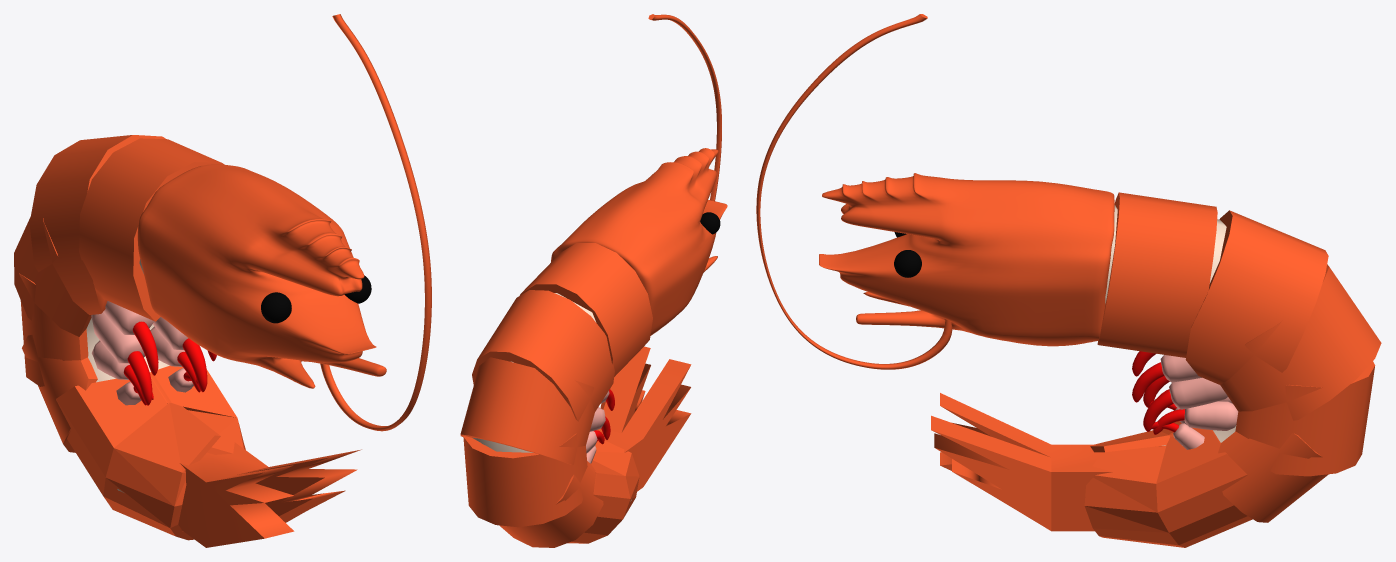
Rendered from 새우깡.fbx.
3 views of the same model, side by side, from view 1: azimuth 30°, elevation 25°; view 2: azimuth 150°, elevation 25°; view 3: azimuth 270°, elevation 25° (orthographic). The views are drawn at different scales.
Parts seen in each view (by area): view 1: pCube11, pCube9, pCube10, pCube4, pCube5, nurbsToPoly1, pCube6, pCube7, pCube8, polySurface6, polySurface8, pSphere4 (+7 smaller); view 2: pCube11, pCube5, pCube6, pCube7, pCube4, pCube10, pCube9, pCube8, nurbsToPoly1, pCube1, pSphere4; view 3: pCube11, pCube5, pCube4, pCube9, pCube10, pCube6, pCube7, pCube8, nurbsToPoly1, polySurface4, polySurface10, pCube1 (+1 smaller).
Part boxes in pixels (box(x1,y1,x2,y2)): pCube11: box(137, 164, 386, 388); pCube9: box(56, 365, 245, 540); pCube10: box(178, 442, 361, 547); pCube4: box(79, 138, 224, 321); pCube5: box(29, 135, 165, 314); nurbsToPoly1: box(320, 14, 431, 431); pCube6: box(14, 216, 91, 336); pCube7: box(19, 273, 88, 386); pCube8: box(22, 335, 97, 452); polySurface6: box(91, 312, 145, 363); polySurface8: box(103, 301, 153, 334); pSphere4: box(261, 292, 291, 323); pCube11: box(551, 148, 727, 335); pCube5: box(472, 290, 614, 421); pCube6: box(460, 357, 594, 465); pCube7: box(463, 433, 587, 527); pCube4: box(519, 243, 652, 376); pCube10: box(596, 346, 691, 491); pCube9: box(567, 440, 639, 543); pCube8: box(499, 461, 603, 547); nurbsToPoly1: box(648, 14, 721, 200); pCube1: box(472, 293, 631, 501); pSphere4: box(700, 212, 720, 234); pCube11: box(819, 173, 1114, 346); pCube5: box(1185, 210, 1328, 384); pCube4: box(1097, 192, 1217, 357); pCube9: box(1084, 421, 1252, 547); pCube10: box(931, 393, 1112, 531); pCube6: box(1220, 264, 1381, 420); pCube7: box(1235, 361, 1375, 476); pCube8: box(1218, 431, 1328, 522); nurbsToPoly1: box(756, 14, 952, 369); polySurface4: box(1169, 377, 1227, 409); polySurface10: box(1184, 401, 1238, 430); pCube1: box(1105, 205, 1236, 445).
Bounding box in the file's own units: 2.98 × 12.09 × 12.67.
